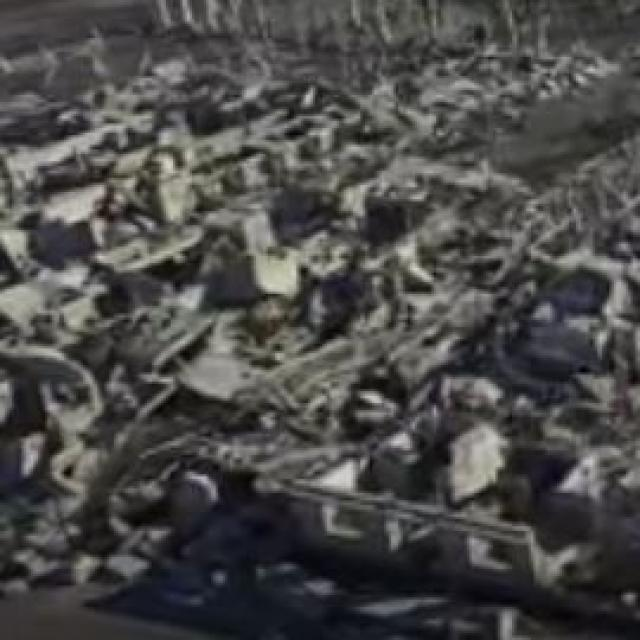collapsed_building: (5, 81, 638, 550)
